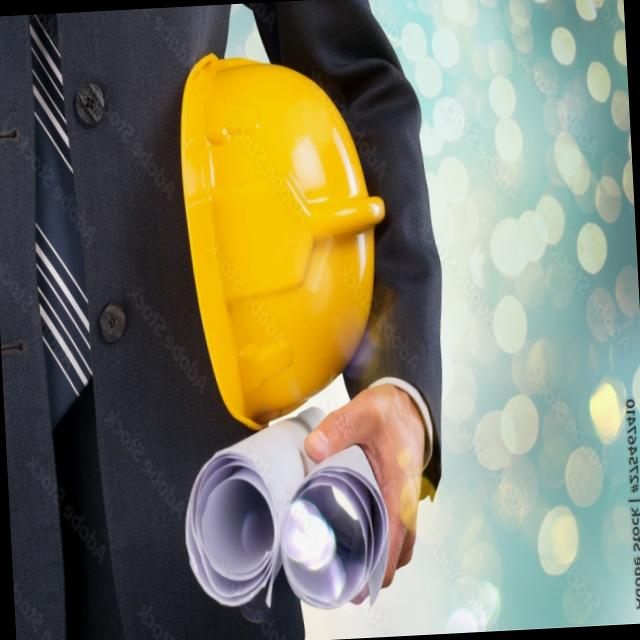helmet: (172, 42, 398, 440)
